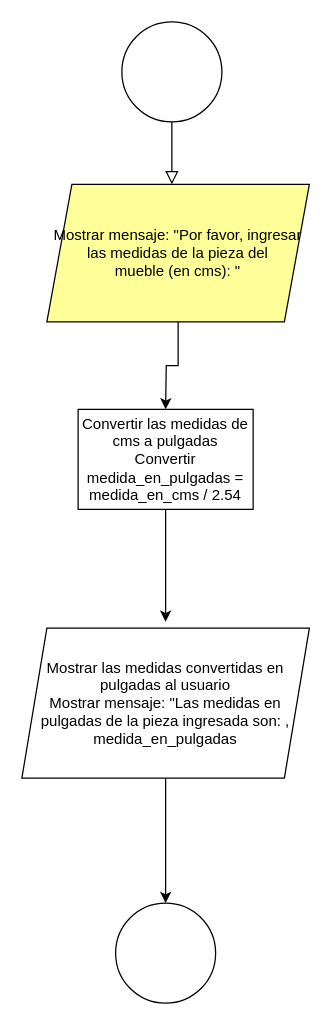
This 331x1025 diagram has some shape labels left out. Here are the shapes that lost their labels. From the top down, the centre of each, then its label:
At (x=171, y=71): "Inicio".
At (x=165, y=952): "Fin".
